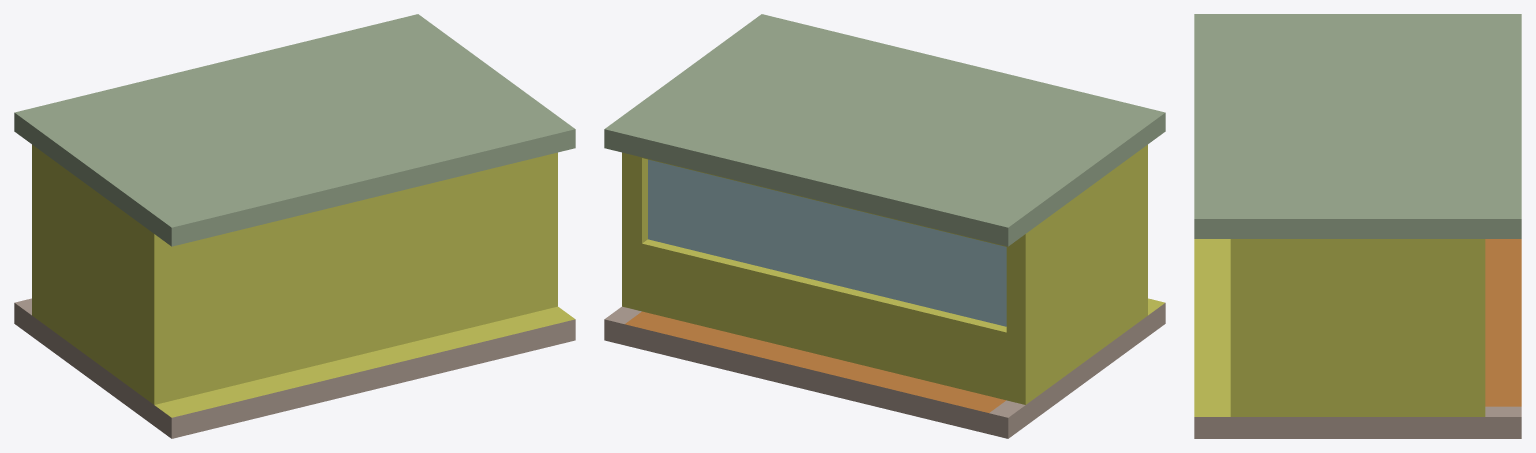
Rendered from shop c.fbx.
3 renders of one model, left to right at view 1: azimuth 30°, elevation 25°; view 2: azimuth 150°, elevation 25°; view 3: azimuth 270°, elevation 25°, orthographic. The views are drawn at different scales.
Parts seen in each view (by area): view 1: shop C; view 2: shop C; view 3: shop C.
Part boxes in pixels (x1,y1,x2,y2): shop C: (14,14,575,438); shop C: (604,14,1165,438); shop C: (1194,14,1521,438).
Size of the model in its own units: 400 by 200 by 270.
